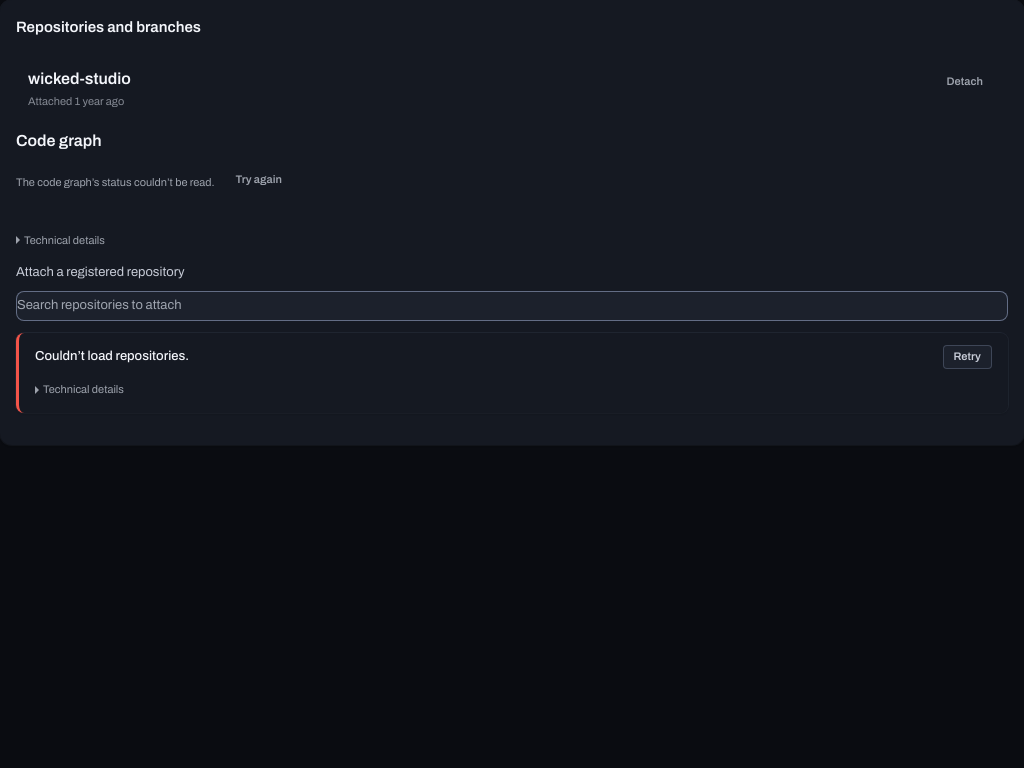
ProjectRepositories — the rows carry the engine's findings (F-2R2-004) › a failed registry read on mount is reported — the picker gesture retries it
Expected: the message "Couldn’t load repositories. Retry Technical details" is shown, [16, 332, 1008, 412]
Focus the field with test id "project-repo-search". click: (512,306)
box: [16, 290, 1008, 320]
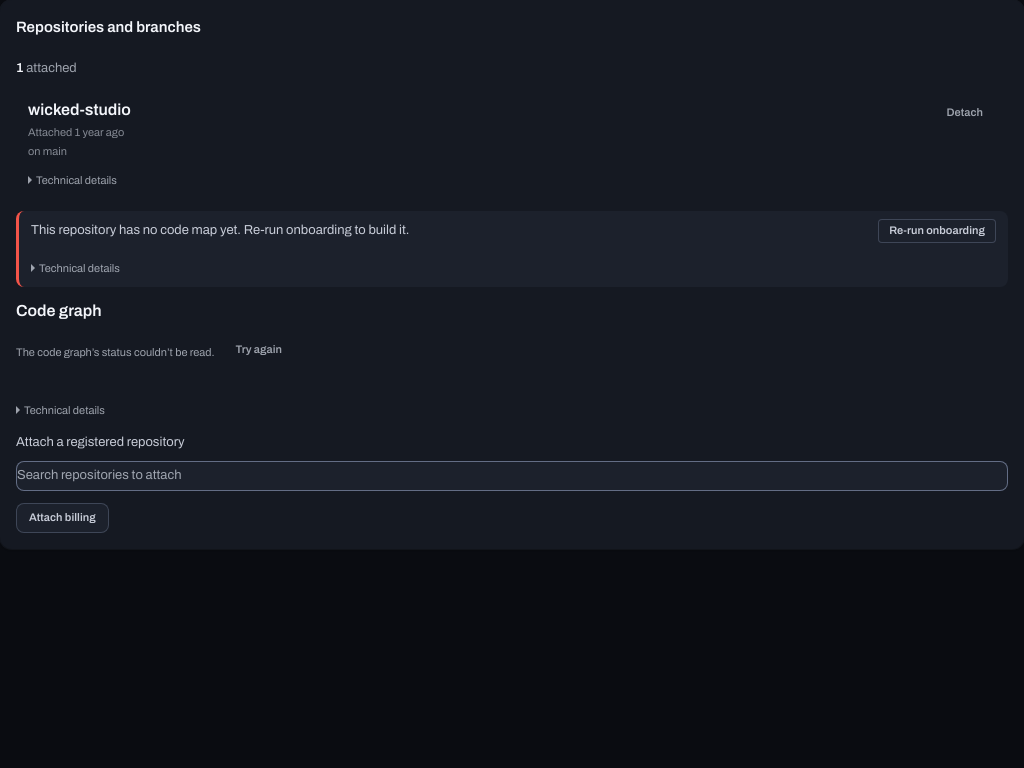
Expected: the element with test id "project-repo-findings" is shown, [16, 211, 1008, 287]
